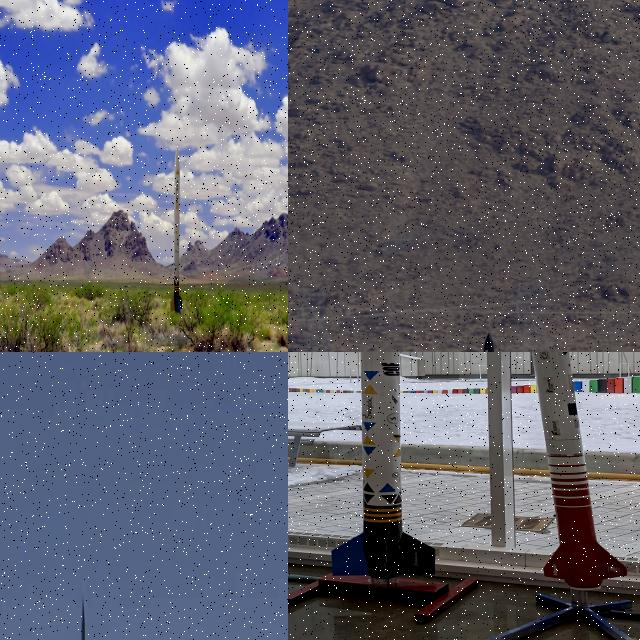Rocket: (331, 352, 435, 587), (531, 352, 627, 591), (170, 144, 182, 316), (472, 332, 512, 352), (78, 598, 87, 640)
